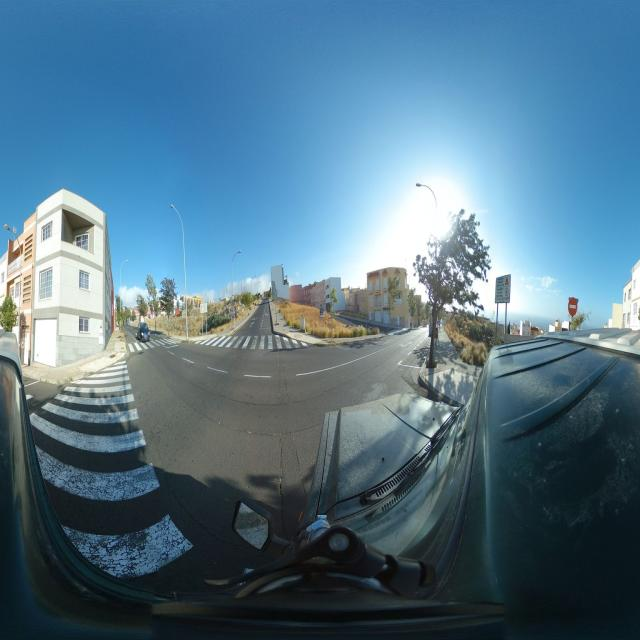forb_stopping: (233, 301, 235, 306)
